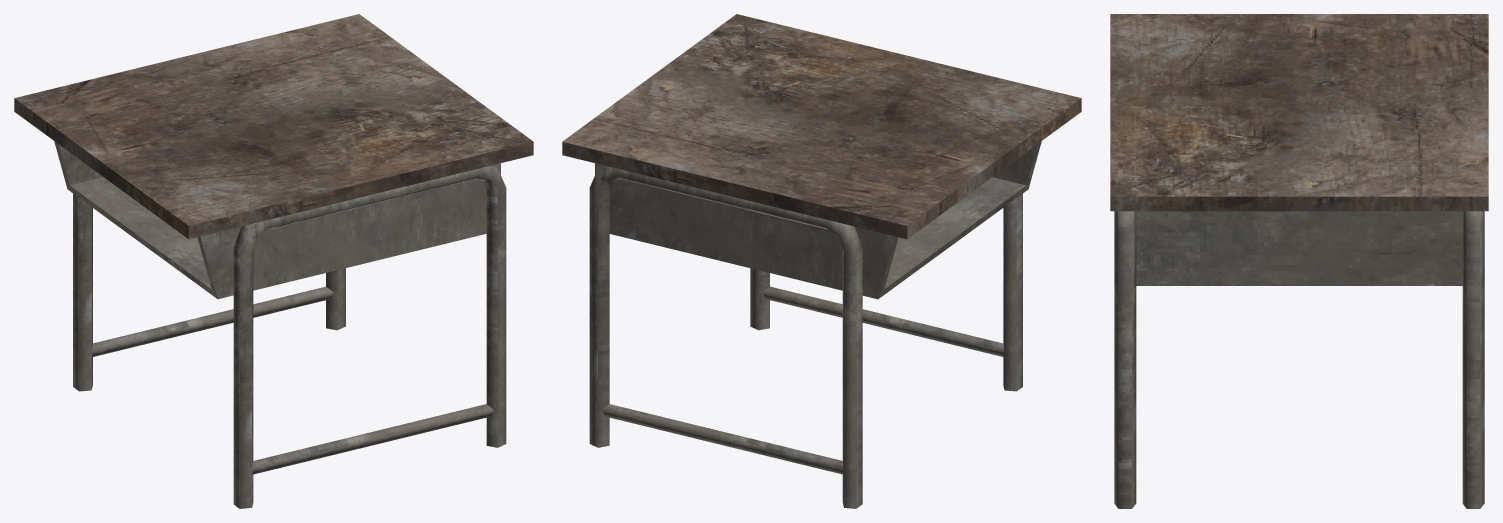
File: _ClassTable_1.FBX
The picture shows the model from 3 angles, left to right: view 1: azimuth 30°, elevation 25°; view 2: azimuth 150°, elevation 25°; view 3: azimuth 270°, elevation 25°; orthographic projection. The views are drawn at different scales.
Visible parts, largest first — view 1: _ClassTable_1; view 2: _ClassTable_1; view 3: _ClassTable_1.
Boxes of the visible parts, bbox=[...] form: _ClassTable_1: bbox=[14, 14, 533, 508]; _ClassTable_1: bbox=[562, 14, 1081, 508]; _ClassTable_1: bbox=[1110, 14, 1488, 508].
Size of the model in its own units: 93.63 by 77.61 by 81.99.
2 materials, 2 textured.
